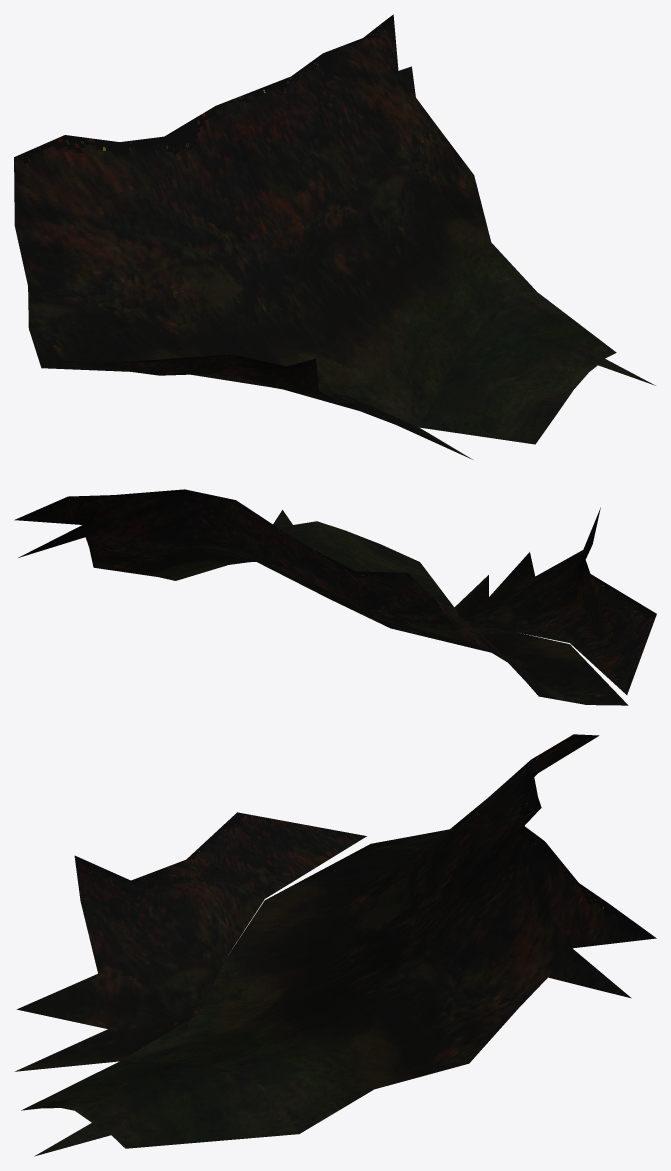
File: cell_7_-19.gltf
The picture shows the model from 3 angles, top to bottom: view 1: azimuth 30°, elevation 25°; view 2: azimuth 150°, elevation 25°; view 3: azimuth 270°, elevation 25°; orthographic projection. The views are drawn at different scales.
Visible parts, largest first — view 1: cell_7_-19; view 2: cell_7_-19; view 3: cell_7_-19.
Part boxes in pixels (<box>): cell_7_-19: <box>14,14,655,459</box>; cell_7_-19: <box>14,489,656,705</box>; cell_7_-19: <box>14,734,656,1156</box>.
Size of the model in its own units: 282 by 129 by 274.
2 materials, 2 textured.
